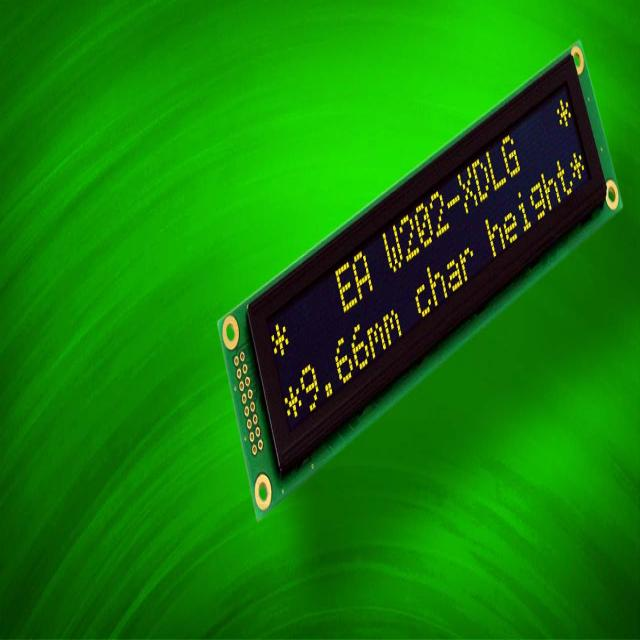Display: (215, 35, 623, 519)
